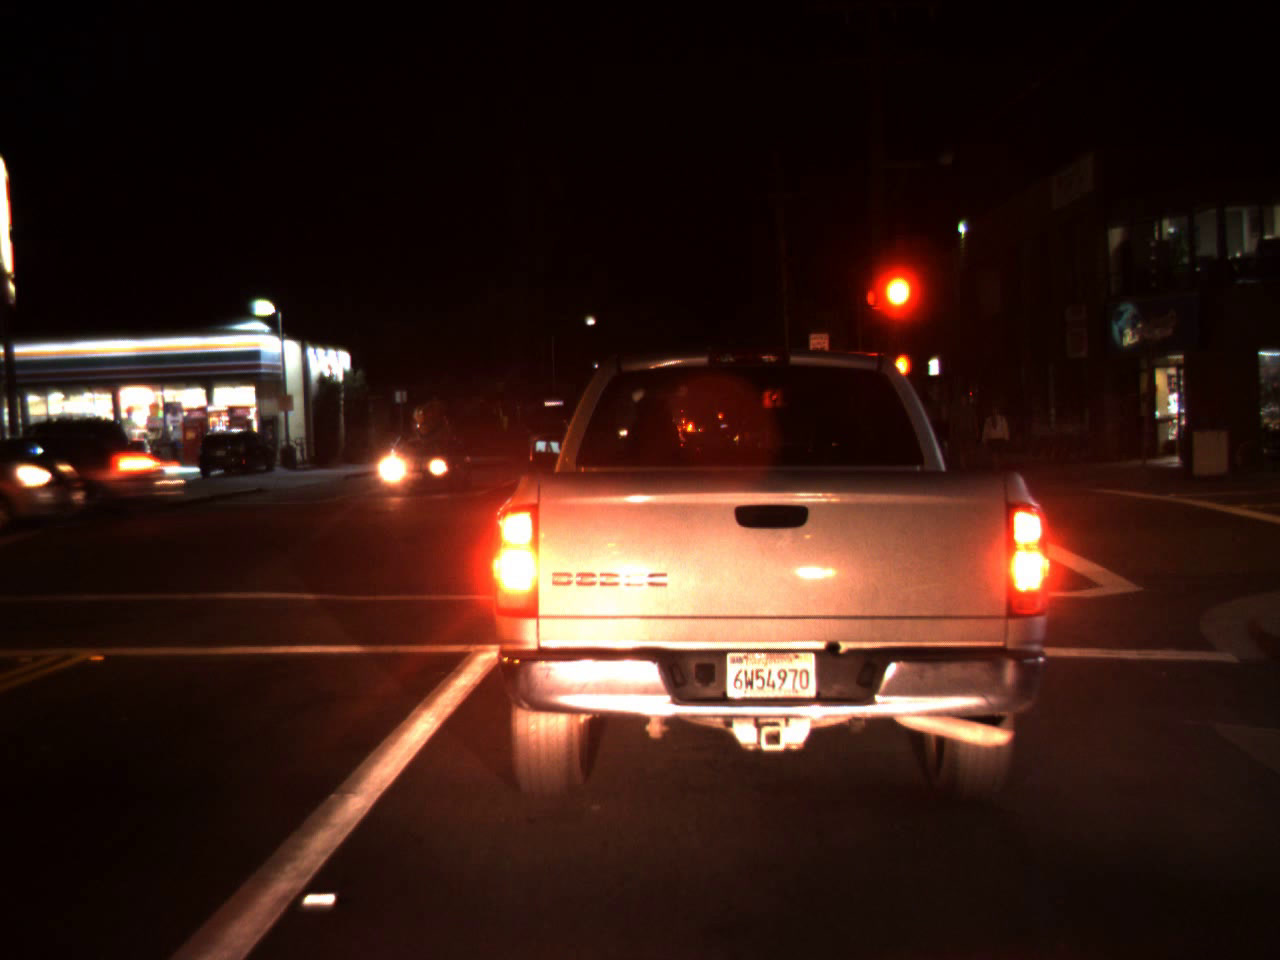stop: (878, 271, 915, 346)
